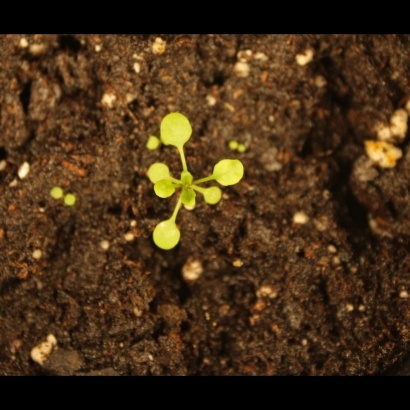leaf: (153, 107, 198, 153), (147, 217, 188, 257), (206, 154, 251, 189), (202, 181, 228, 208), (146, 160, 172, 186), (64, 190, 88, 215), (41, 180, 64, 203), (177, 190, 200, 213), (178, 165, 201, 188), (152, 179, 175, 202)
